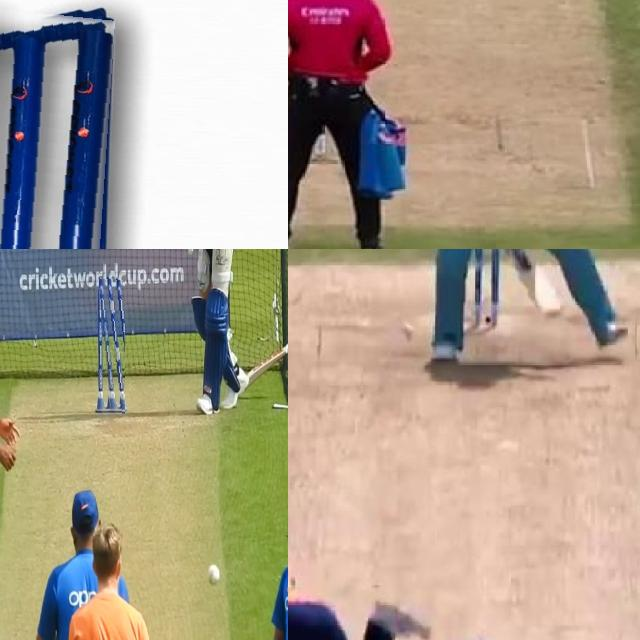Cricket ball: (399, 322, 416, 344)
Stumps: (0, 5, 114, 249), (97, 273, 125, 414)
